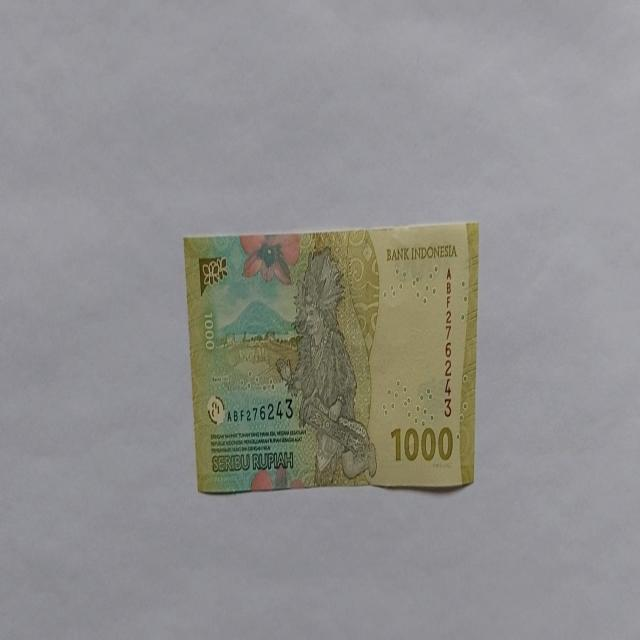seribu rupiah kertas: (182, 220, 480, 494)
